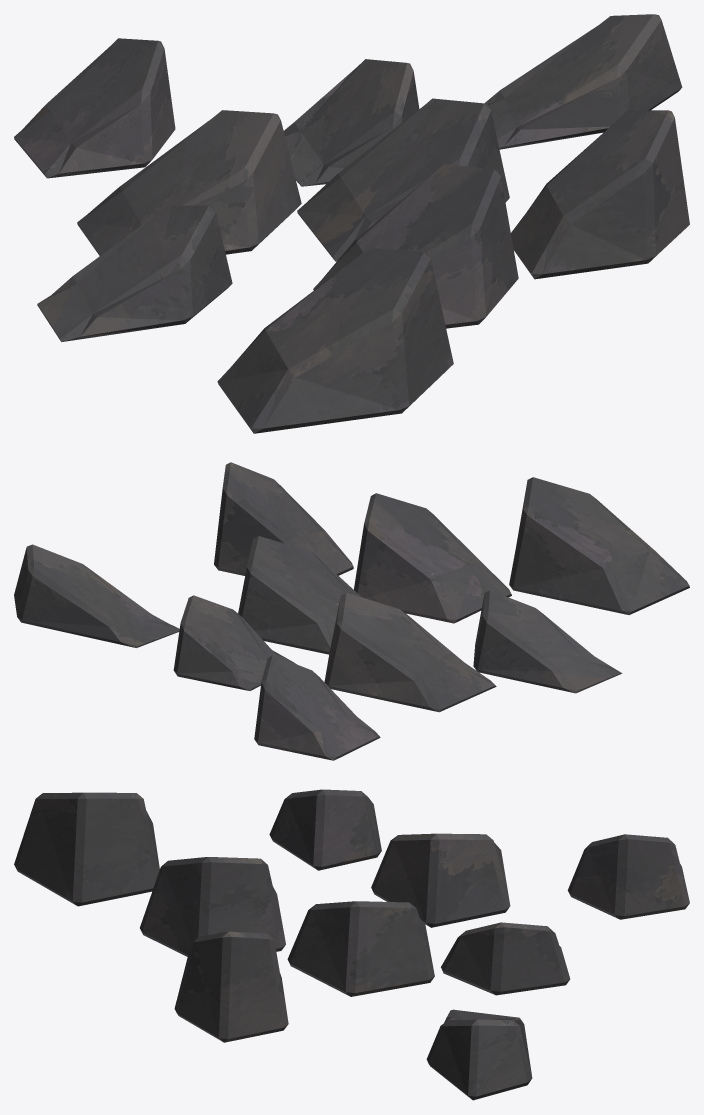
The model's file is slate-scree.glb.
3 views of the same model, one above another, from view 1: azimuth 30°, elevation 25°; view 2: azimuth 150°, elevation 25°; view 3: azimuth 270°, elevation 25° (orthographic). The views are drawn at different scales.
Visible parts, largest first — view 1: slate-scree; view 2: slate-scree; view 3: slate-scree.
Boxes of the visible parts, x1,y1,x2,y2 form: slate-scree: [14, 14, 689, 433]; slate-scree: [14, 462, 689, 760]; slate-scree: [14, 789, 689, 1100].
Size of the model in its own units: 2.99 by 0.4757 by 2.77.
4 materials, 4 textured.
